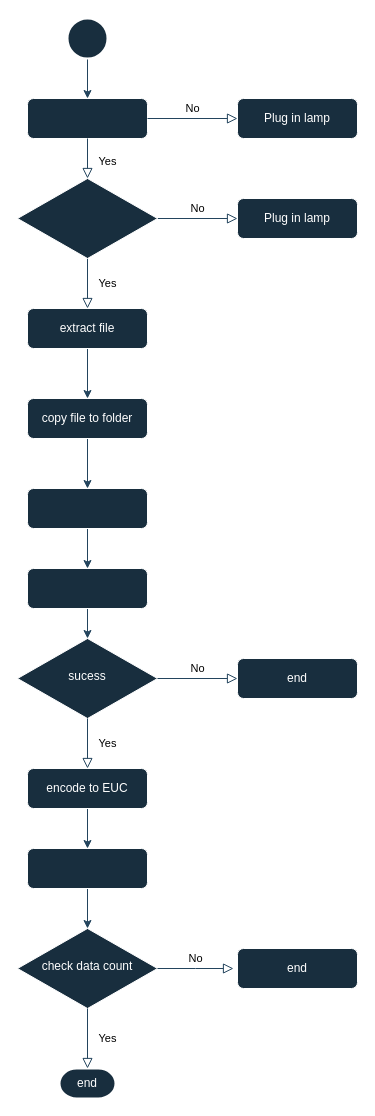
Some shapes in this 375 by 1116 pixel diagram are drawn without their labels. The shapes that lost their labels are listed below. From the top down, each one's centre as x and y in pixels, then its label:
At point (87, 118): "notification email received".
At point (87, 218): "data file existed".
At point (87, 508): "encode to SJIS".
At point (87, 588): "replace chars by sjisfilter".
At point (87, 868): "import to DB".
